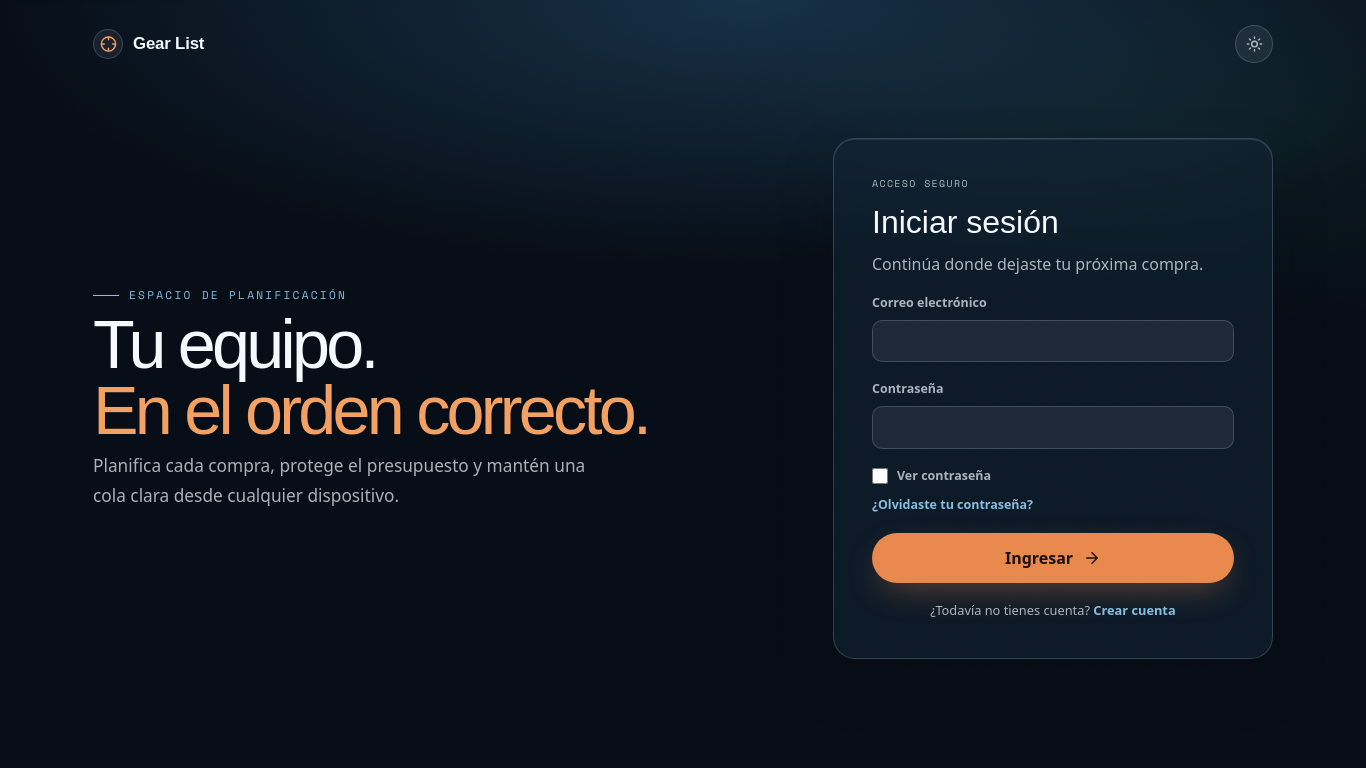
it: App authentication › shows a clear API error for invalid credentials
Type "user@example.com" into the field labelled "Correo electrónico" at (1053, 341), box [872,320,1234,362]
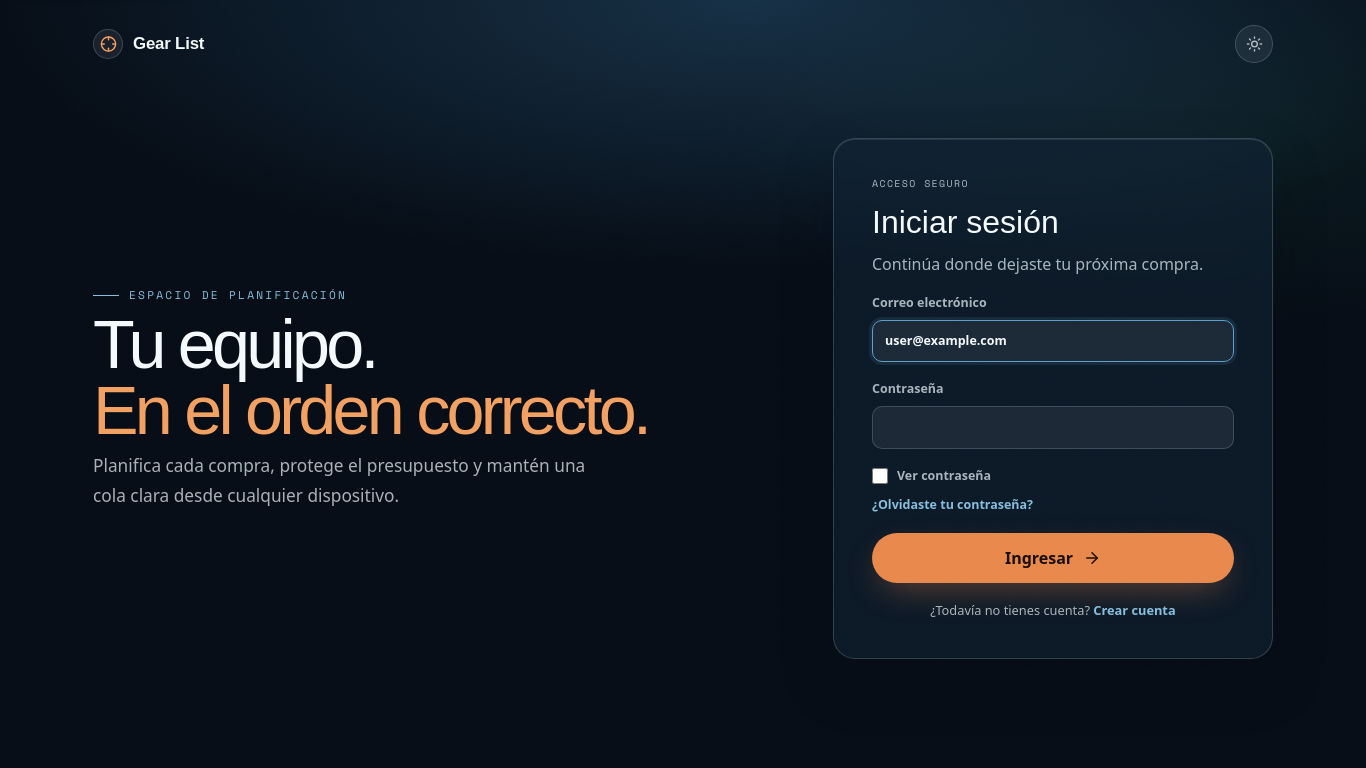
Type "WrongPass1" into the password field labelled "Contraseña" at (1053, 427), box [872,406,1234,449]
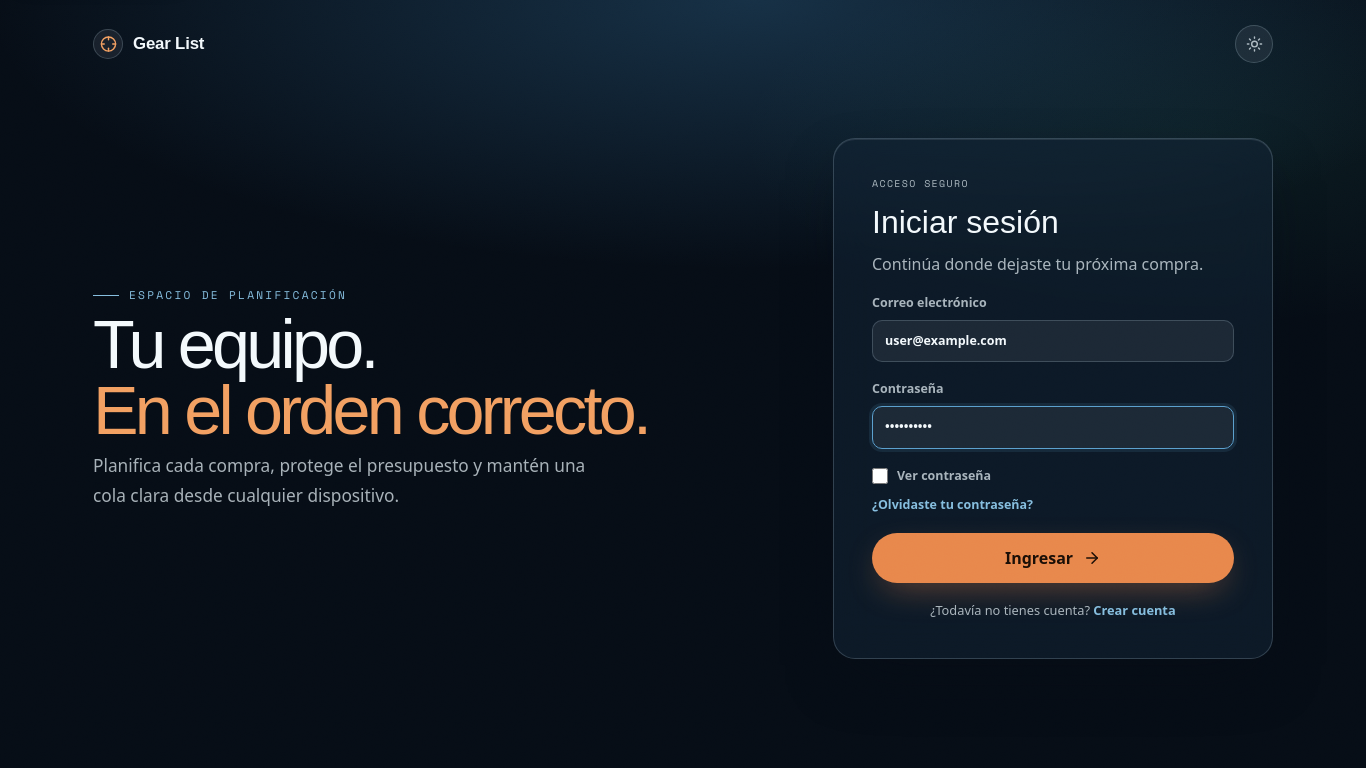
Click the button "Ingresar" at (1053, 558), box [872,533,1234,583]
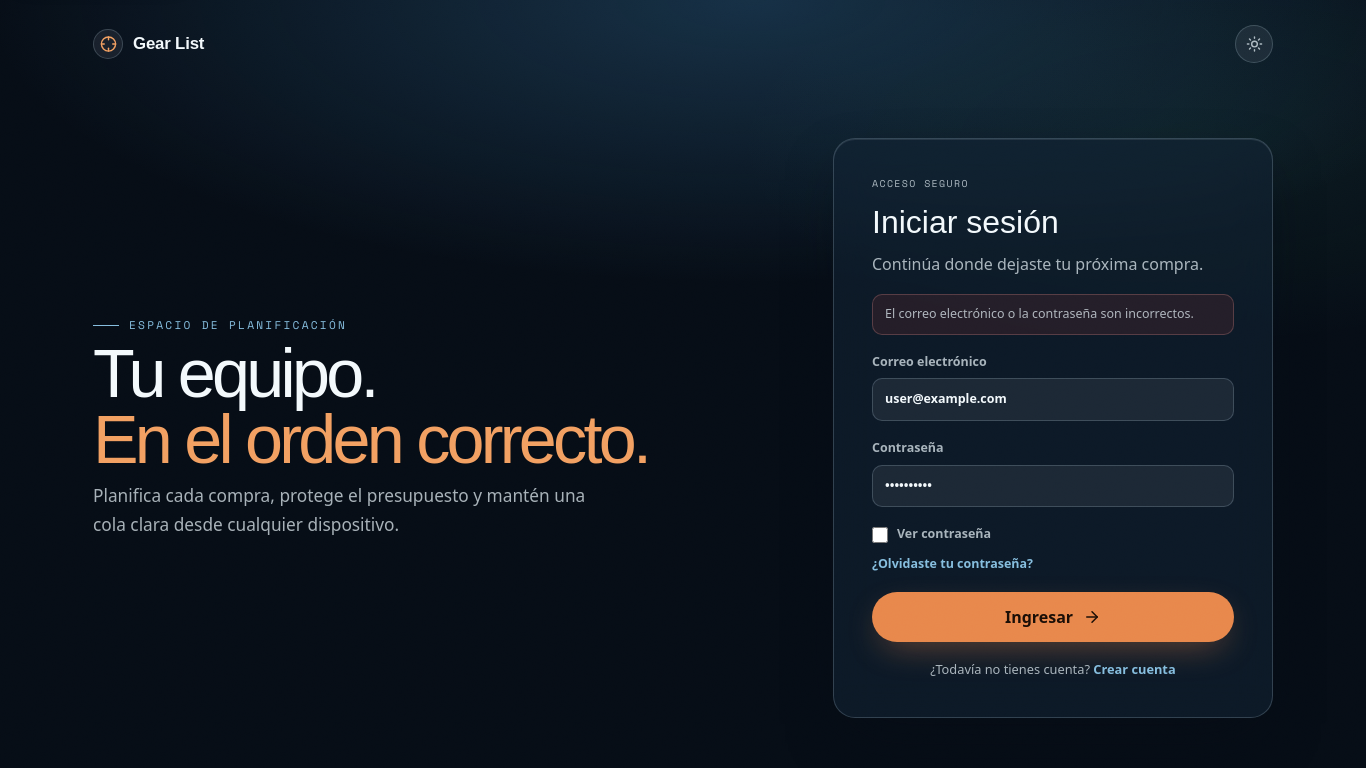
Now the text "El correo electrónico o la contraseña son incorrectos." is shown, box [872,294,1234,335]
